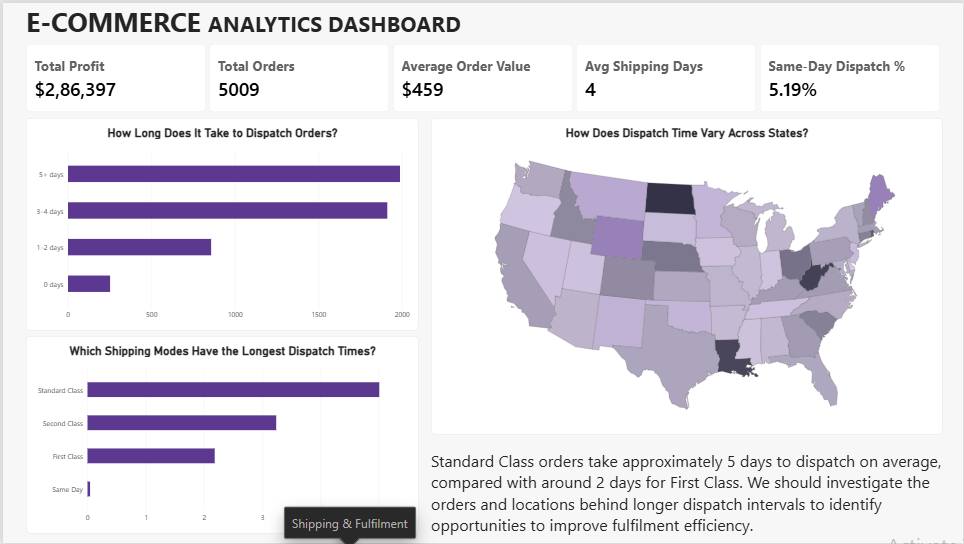

Layout of this report page (visuals, bound fields, positions):
{"tool":"powerbi","page":{"name":"Shipping & Fulfilment","canvas":[1920,1080],"ordinal":2},"visuals":[{"type":"barChart","title":"Which Shipping Modes Have the Longest Dispatch Times?","fields":{"Category":["fact_table.ship_mode"],"Y":["_Measures.Avg Shipping Days"]},"box":[45.5,665.8,785.1,394.7],"z":0},{"type":"shapeMap","title":"How Does Dispatch Time Vary Across States?","fields":{"Category":["geography_dim.state"],"Value":["_Measures.Avg Shipping Days"]},"box":[855,230,1022.5,632.5],"z":1000},{"type":"barChart","title":"How Long Does It Take to Dispatch Orders?","fields":{"Category":["fact_table.Dispatch Group"],"Y":["_Measures.Total Orders"]},"box":[45,230,785,425],"z":2000},{"type":"cardVisual","fields":{"Data":["_Measures.Total Profit","_Measures.Total Orders","_Measures.Average Order Value","_Measures.Avg Shipping Days","_Measures.Same-Day Dispatch %"]},"box":[45,82.5,1830.4,136.6],"z":3000},{"type":"textbox","box":[45,0,970,82.5],"z":4000},{"type":"textbox","box":[855,892.5,1022.5,187.5],"z":4001}]}

Visuals, with their boxes in screenshot pixels (x1, y1, x2, y2), scaled from the page's 1920x1080 canvas onto the 964x544 screenshot:
"Which Shipping Modes Have the Longest Dispatch Times?" barChart: [x1=23, y1=335, x2=417, y2=534]
"How Does Dispatch Time Vary Across States?" shapeMap: [x1=429, y1=116, x2=943, y2=434]
"How Long Does It Take to Dispatch Orders?" barChart: [x1=23, y1=116, x2=417, y2=330]
cardVisual - _Measures.Total Profit x _Measures.Total Orders: [x1=23, y1=42, x2=942, y2=110]
textbox: [x1=23, y1=0, x2=510, y2=42]
textbox: [x1=429, y1=450, x2=943, y2=543]
